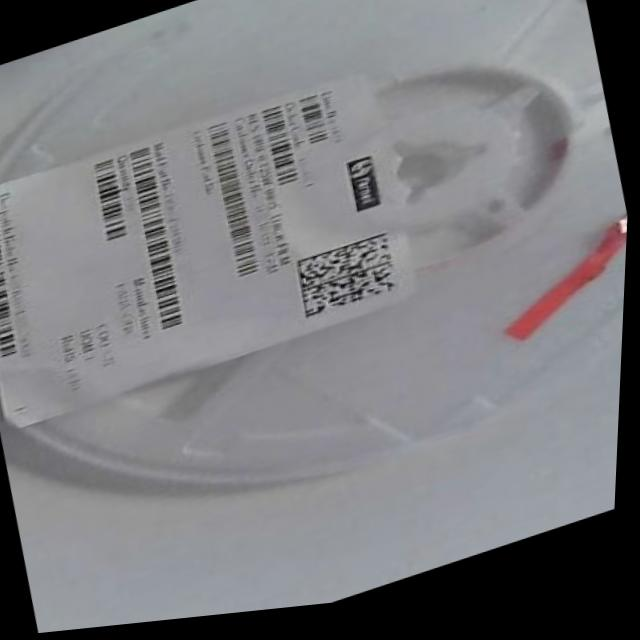datamatrix: (291, 237, 406, 331)
